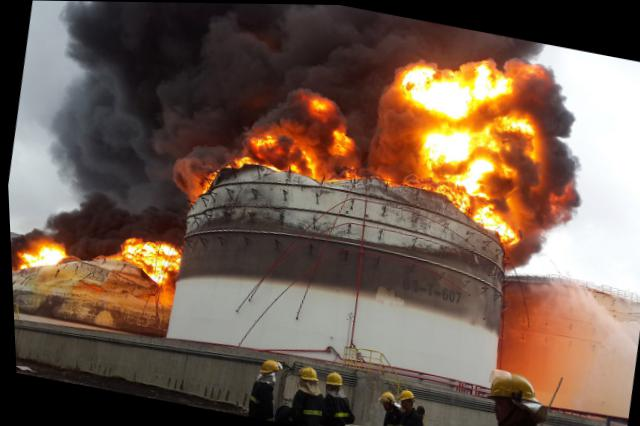fire: (409, 117, 513, 179), (390, 56, 481, 126), (118, 234, 180, 278), (466, 199, 521, 240), (430, 166, 488, 202), (275, 143, 320, 181), (13, 239, 67, 270), (474, 67, 511, 102), (498, 109, 529, 137), (325, 128, 351, 157), (253, 130, 280, 155), (307, 101, 329, 117)
smoke: (52, 9, 295, 99), (91, 1, 399, 67), (72, 64, 299, 131), (51, 90, 249, 159), (41, 121, 186, 191), (527, 119, 586, 229), (56, 170, 182, 216), (291, 51, 392, 107), (509, 66, 590, 121), (464, 28, 552, 69), (395, 16, 466, 62), (70, 202, 125, 258), (131, 213, 183, 243), (340, 103, 382, 140), (513, 219, 541, 260)
